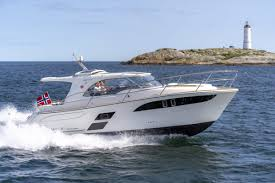boat: (16, 53, 242, 146)
